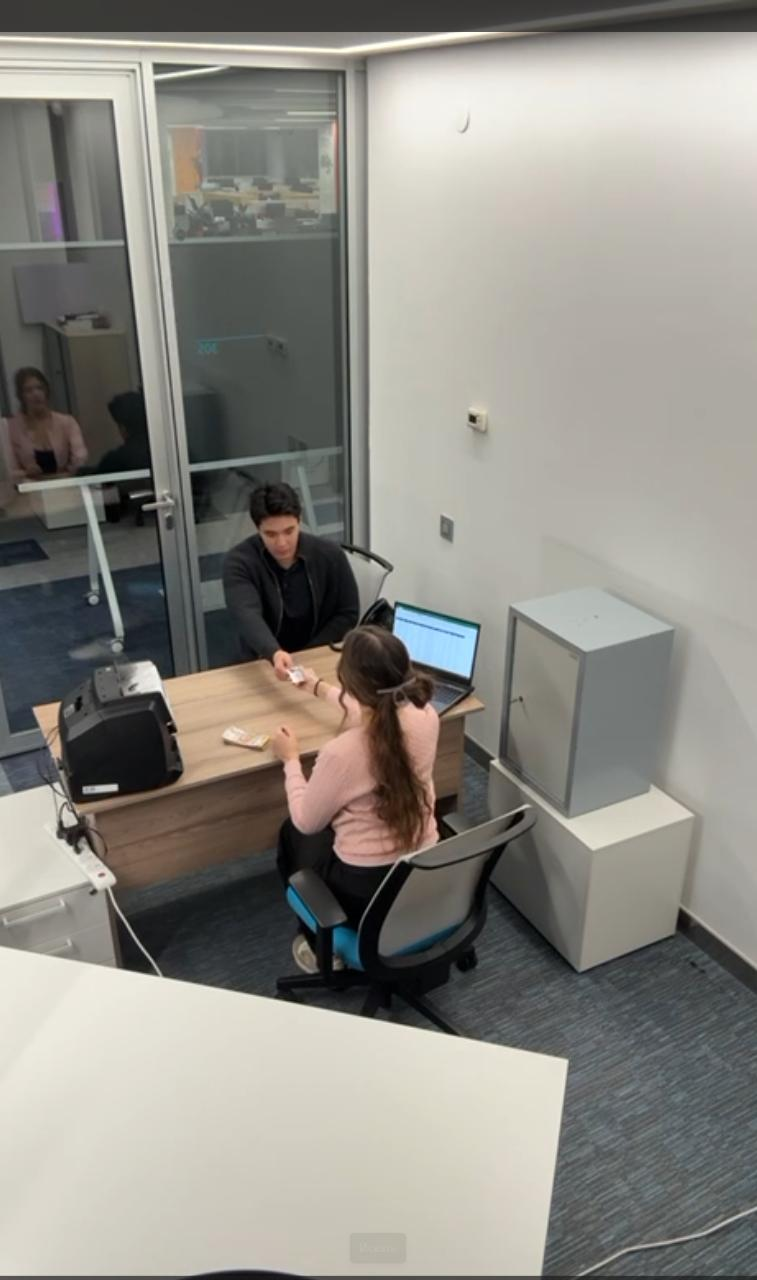cash_stack: (224, 718, 273, 749)
counter: (58, 668, 188, 799)
document: (289, 660, 317, 693)
key_in: (507, 682, 539, 728)
screen_on: (393, 612, 471, 677)
